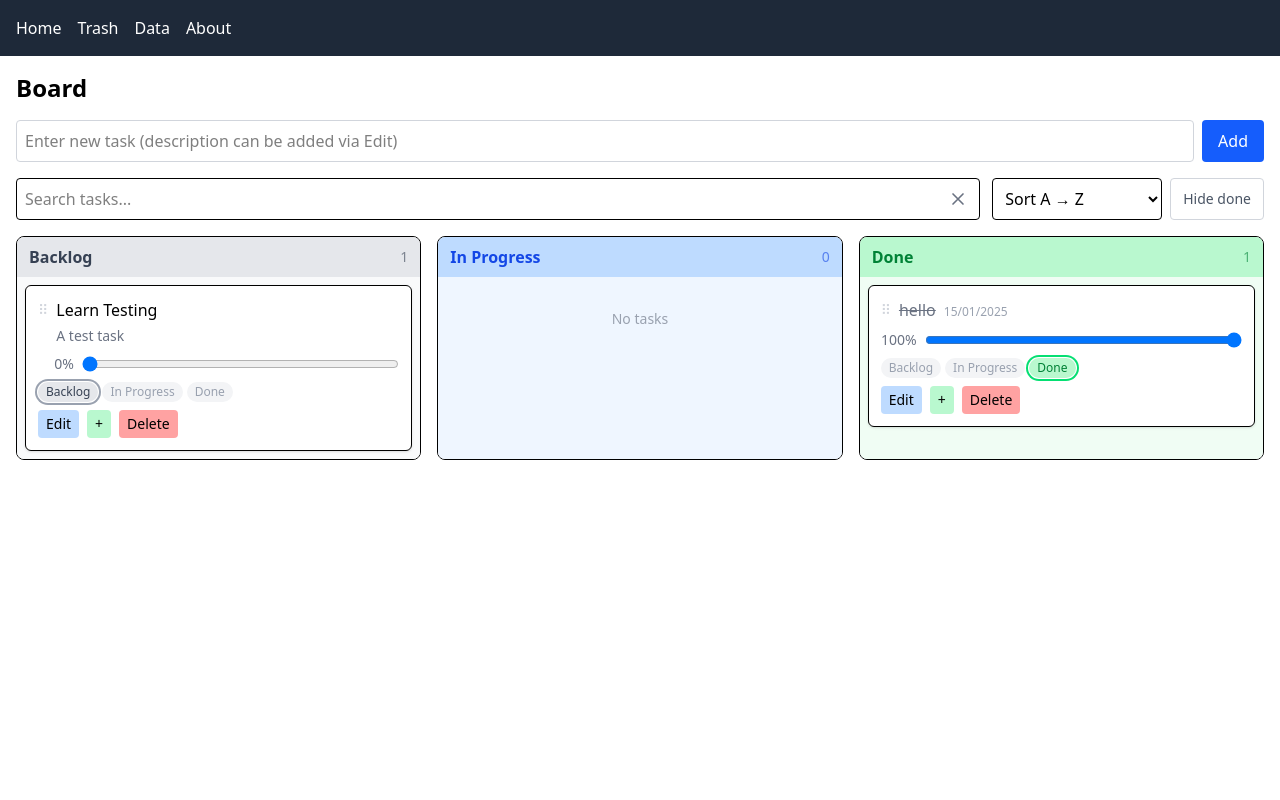
Test: saves updated title from edit modal
Click the button "Edit" below "A test task" at (59, 424), box [38,410,79,438]
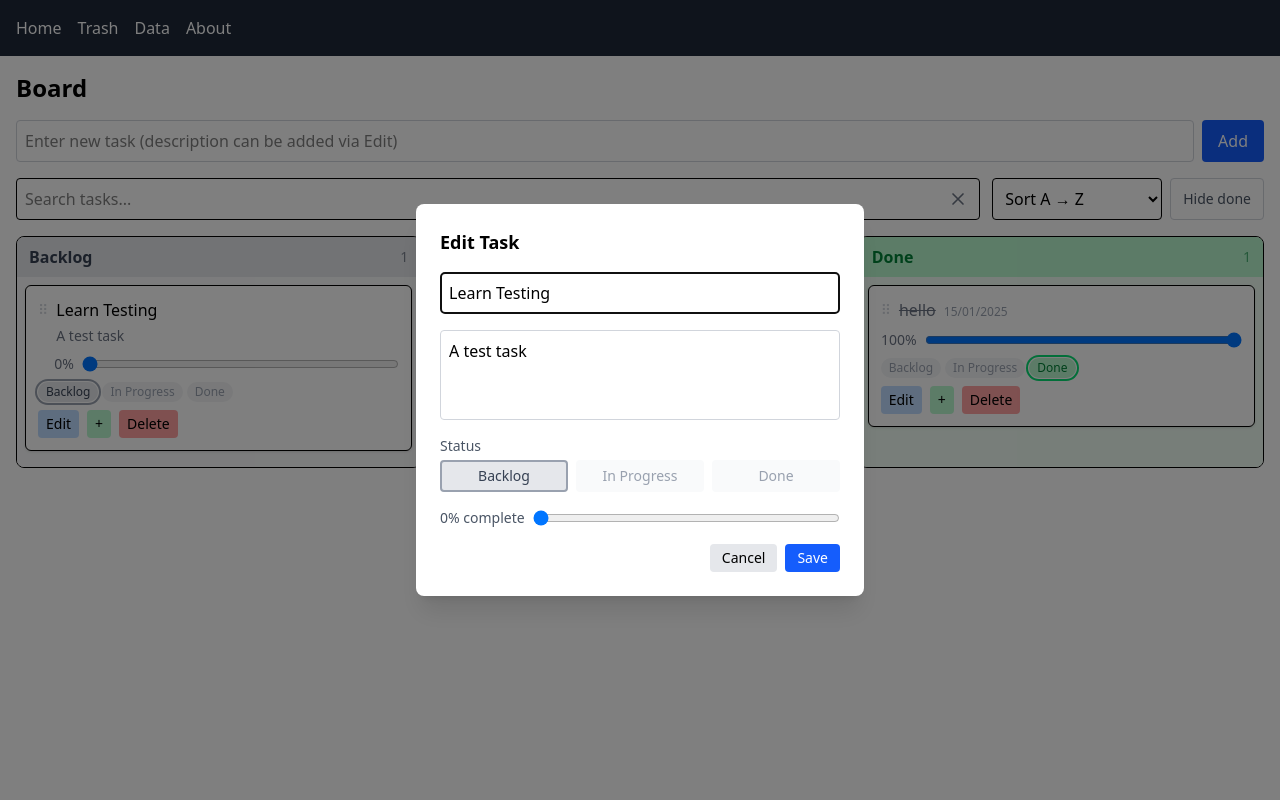
Replace the text in the field showing "Learn Testing" with "Updated Task" at (640, 293), box [440,272,840,314]
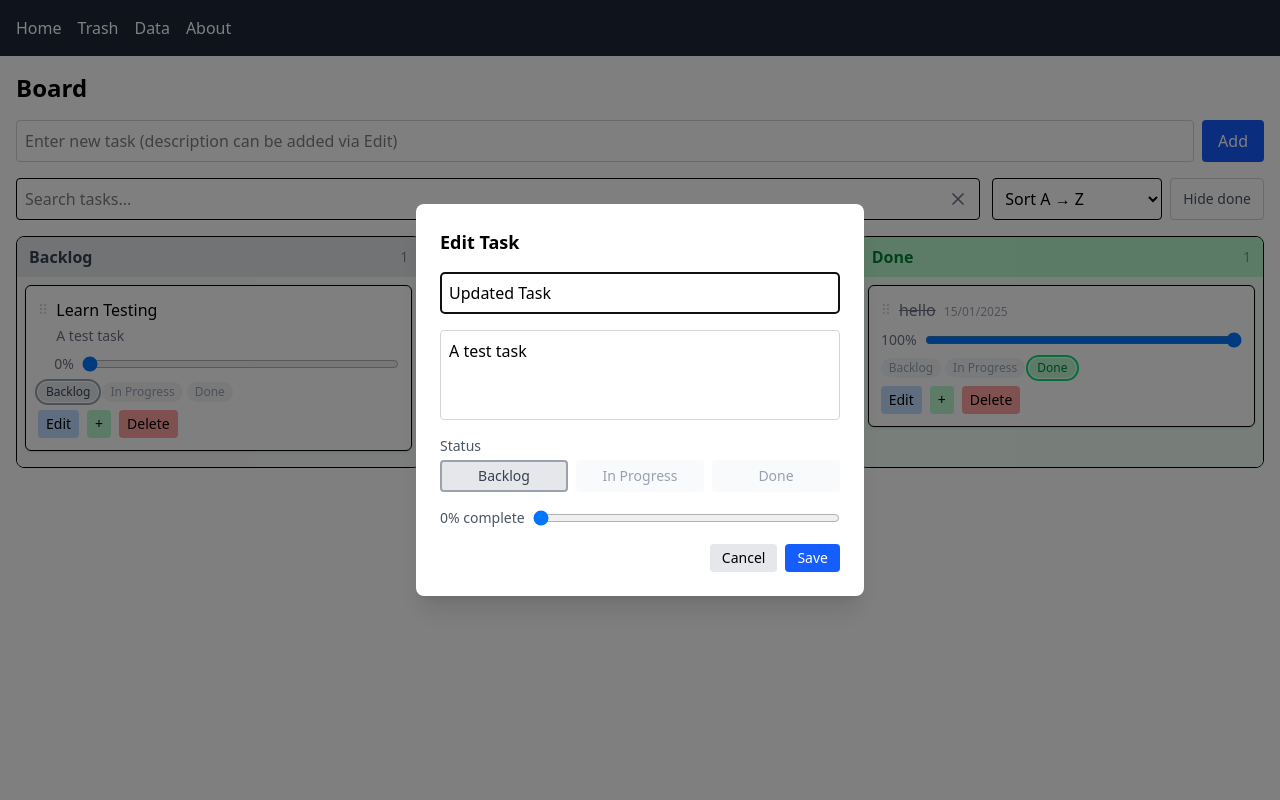
Click the button "Save" at (813, 558), box [785,544,840,572]
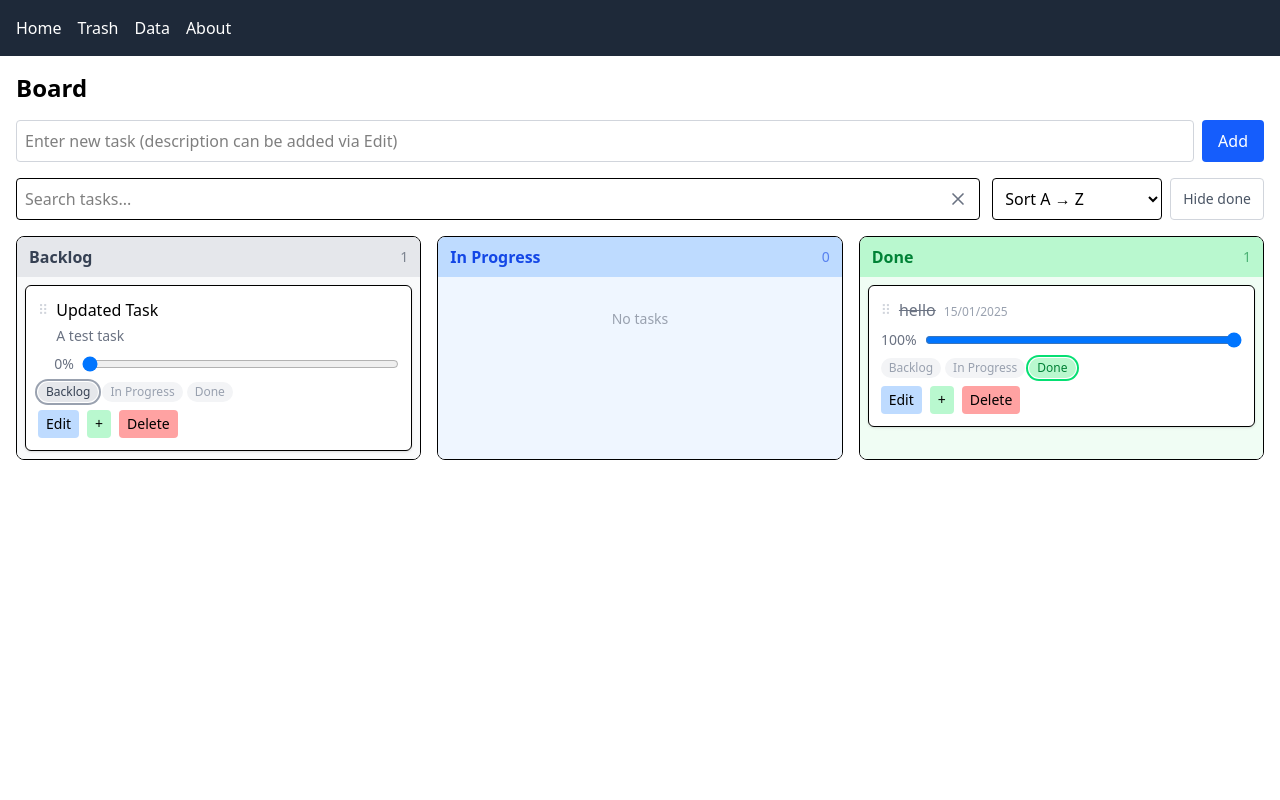
Check: the text "Updated Task" is shown, box [56,299,158,321]
Check: the dialog is gone
